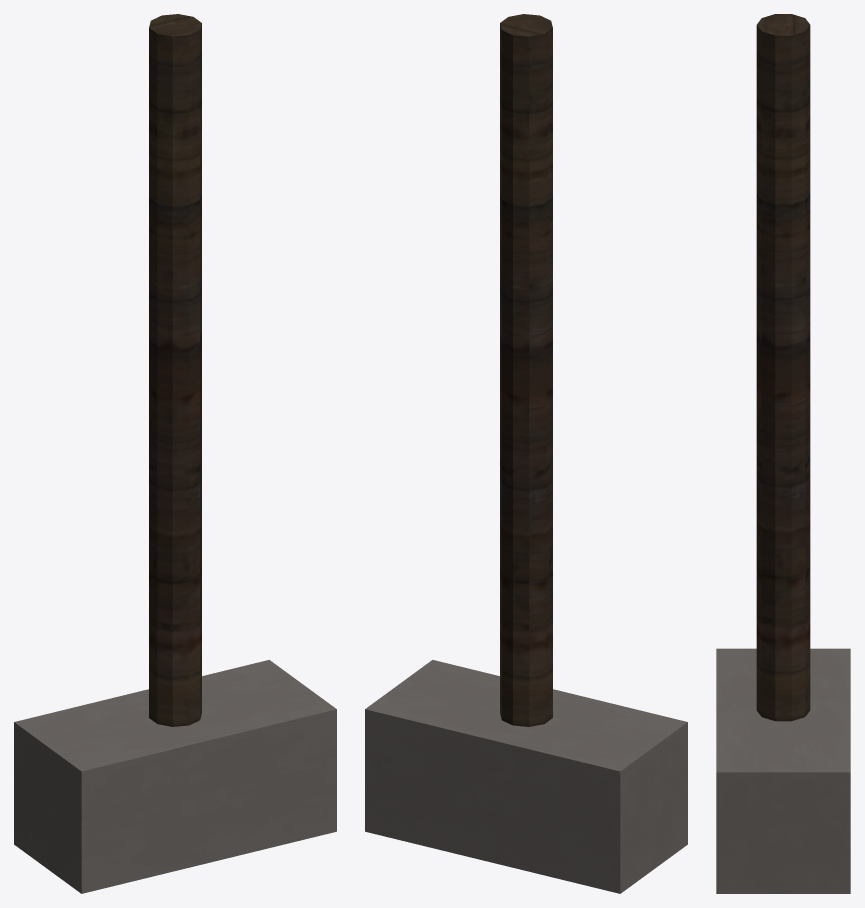
File: hm_forge_hammer.glb
3 renders of one model, left to right at view 1: azimuth 30°, elevation 25°; view 2: azimuth 150°, elevation 25°; view 3: azimuth 270°, elevation 25°, orthographic.
Parts seen in each view (by area): view 1: forge_hammer; view 2: forge_hammer; view 3: forge_hammer.
Boxes of the visible parts, x1=… form: forge_hammer: x1=14, y1=14, x2=336, y2=893; forge_hammer: x1=365, y1=14, x2=687, y2=893; forge_hammer: x1=716, y1=14, x2=850, y2=893.
Size of the model in its own units: 0.24 by 0.73 by 0.11.
Materials: 1 (1 with a texture image).
